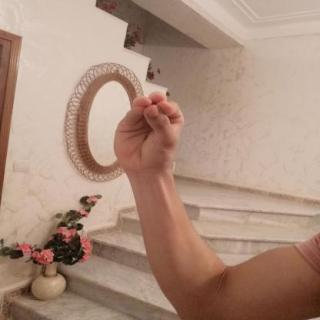HA: (103, 84, 193, 186)
